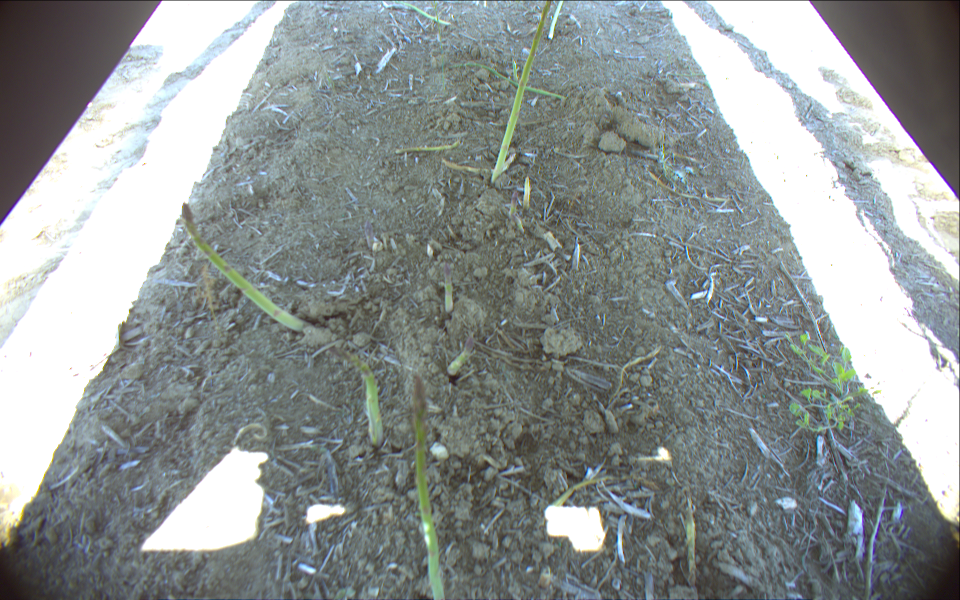aspa: (179, 201, 317, 342), (488, 1, 556, 187), (408, 373, 448, 600), (326, 344, 383, 445)
